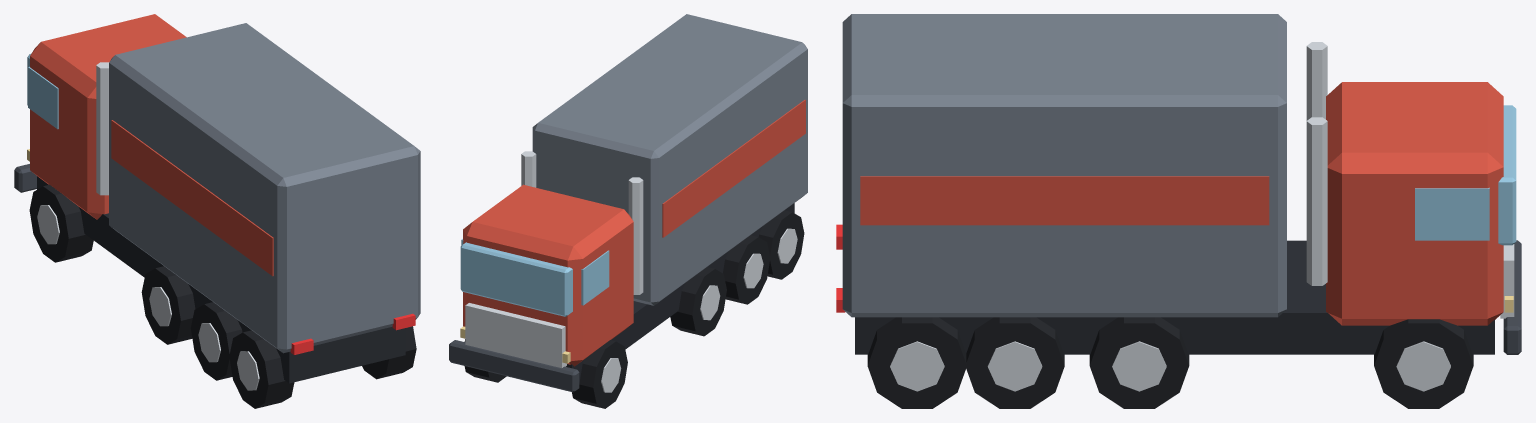
The model's file is heavy_truck.glb.
3 renders of one model, left to right at view 1: azimuth 30°, elevation 25°; view 2: azimuth 150°, elevation 25°; view 3: azimuth 270°, elevation 25°, orthographic. The views are drawn at different scales.
Visible parts, largest first — view 1: Body, Wheel_3L, Wheel_0L, Wheel_1L, Wheel_2L, Wheel_3R; view 2: Body, Wheel_1L, Wheel_0L, Wheel_2L, Wheel_3L, Wheel_0R; view 3: Body, Wheel_1R, Wheel_3R, Wheel_2R, Wheel_0R.
Part boxes in pixels (bbox=[...]): Body: bbox=[14, 14, 420, 383]; Wheel_3L: bbox=[229, 330, 294, 408]; Wheel_0L: bbox=[29, 184, 93, 262]; Wheel_1L: bbox=[141, 266, 195, 344]; Wheel_2L: bbox=[190, 302, 242, 380]; Wheel_3R: bbox=[362, 326, 416, 379]; Body: bbox=[449, 14, 807, 392]; Wheel_1L: bbox=[670, 267, 726, 336]; Wheel_0L: bbox=[572, 340, 627, 408]; Wheel_2L: bbox=[723, 235, 770, 304]; Wheel_3L: bbox=[758, 210, 804, 279]; Wheel_0R: bbox=[464, 339, 506, 382]; Body: bbox=[836, 14, 1521, 354]; Wheel_1R: bbox=[1089, 317, 1189, 408]; Wheel_3R: bbox=[867, 317, 966, 408]; Wheel_2R: bbox=[965, 317, 1064, 408]; Wheel_0R: bbox=[1374, 319, 1473, 408].
Size of the model in its own units: 1.24 by 1.92 by 3.86.
1 material, 1 textured.
